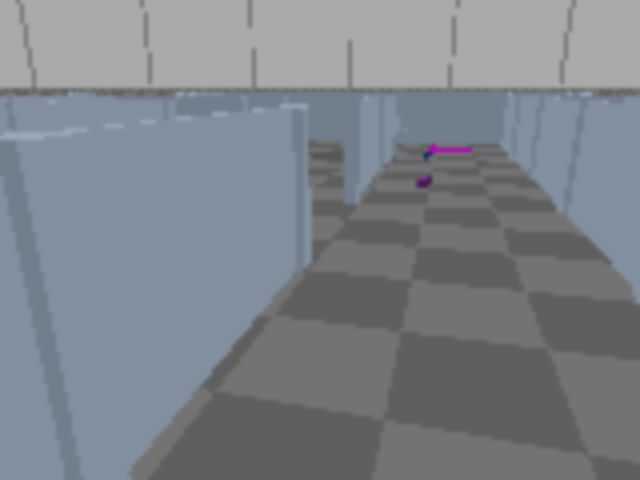goal_zone: (430, 146, 473, 153)
obstacle: (311, 150, 342, 161)
